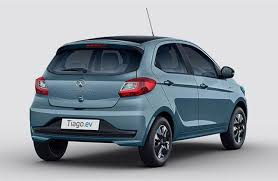Tiago: (28, 33, 249, 168)
